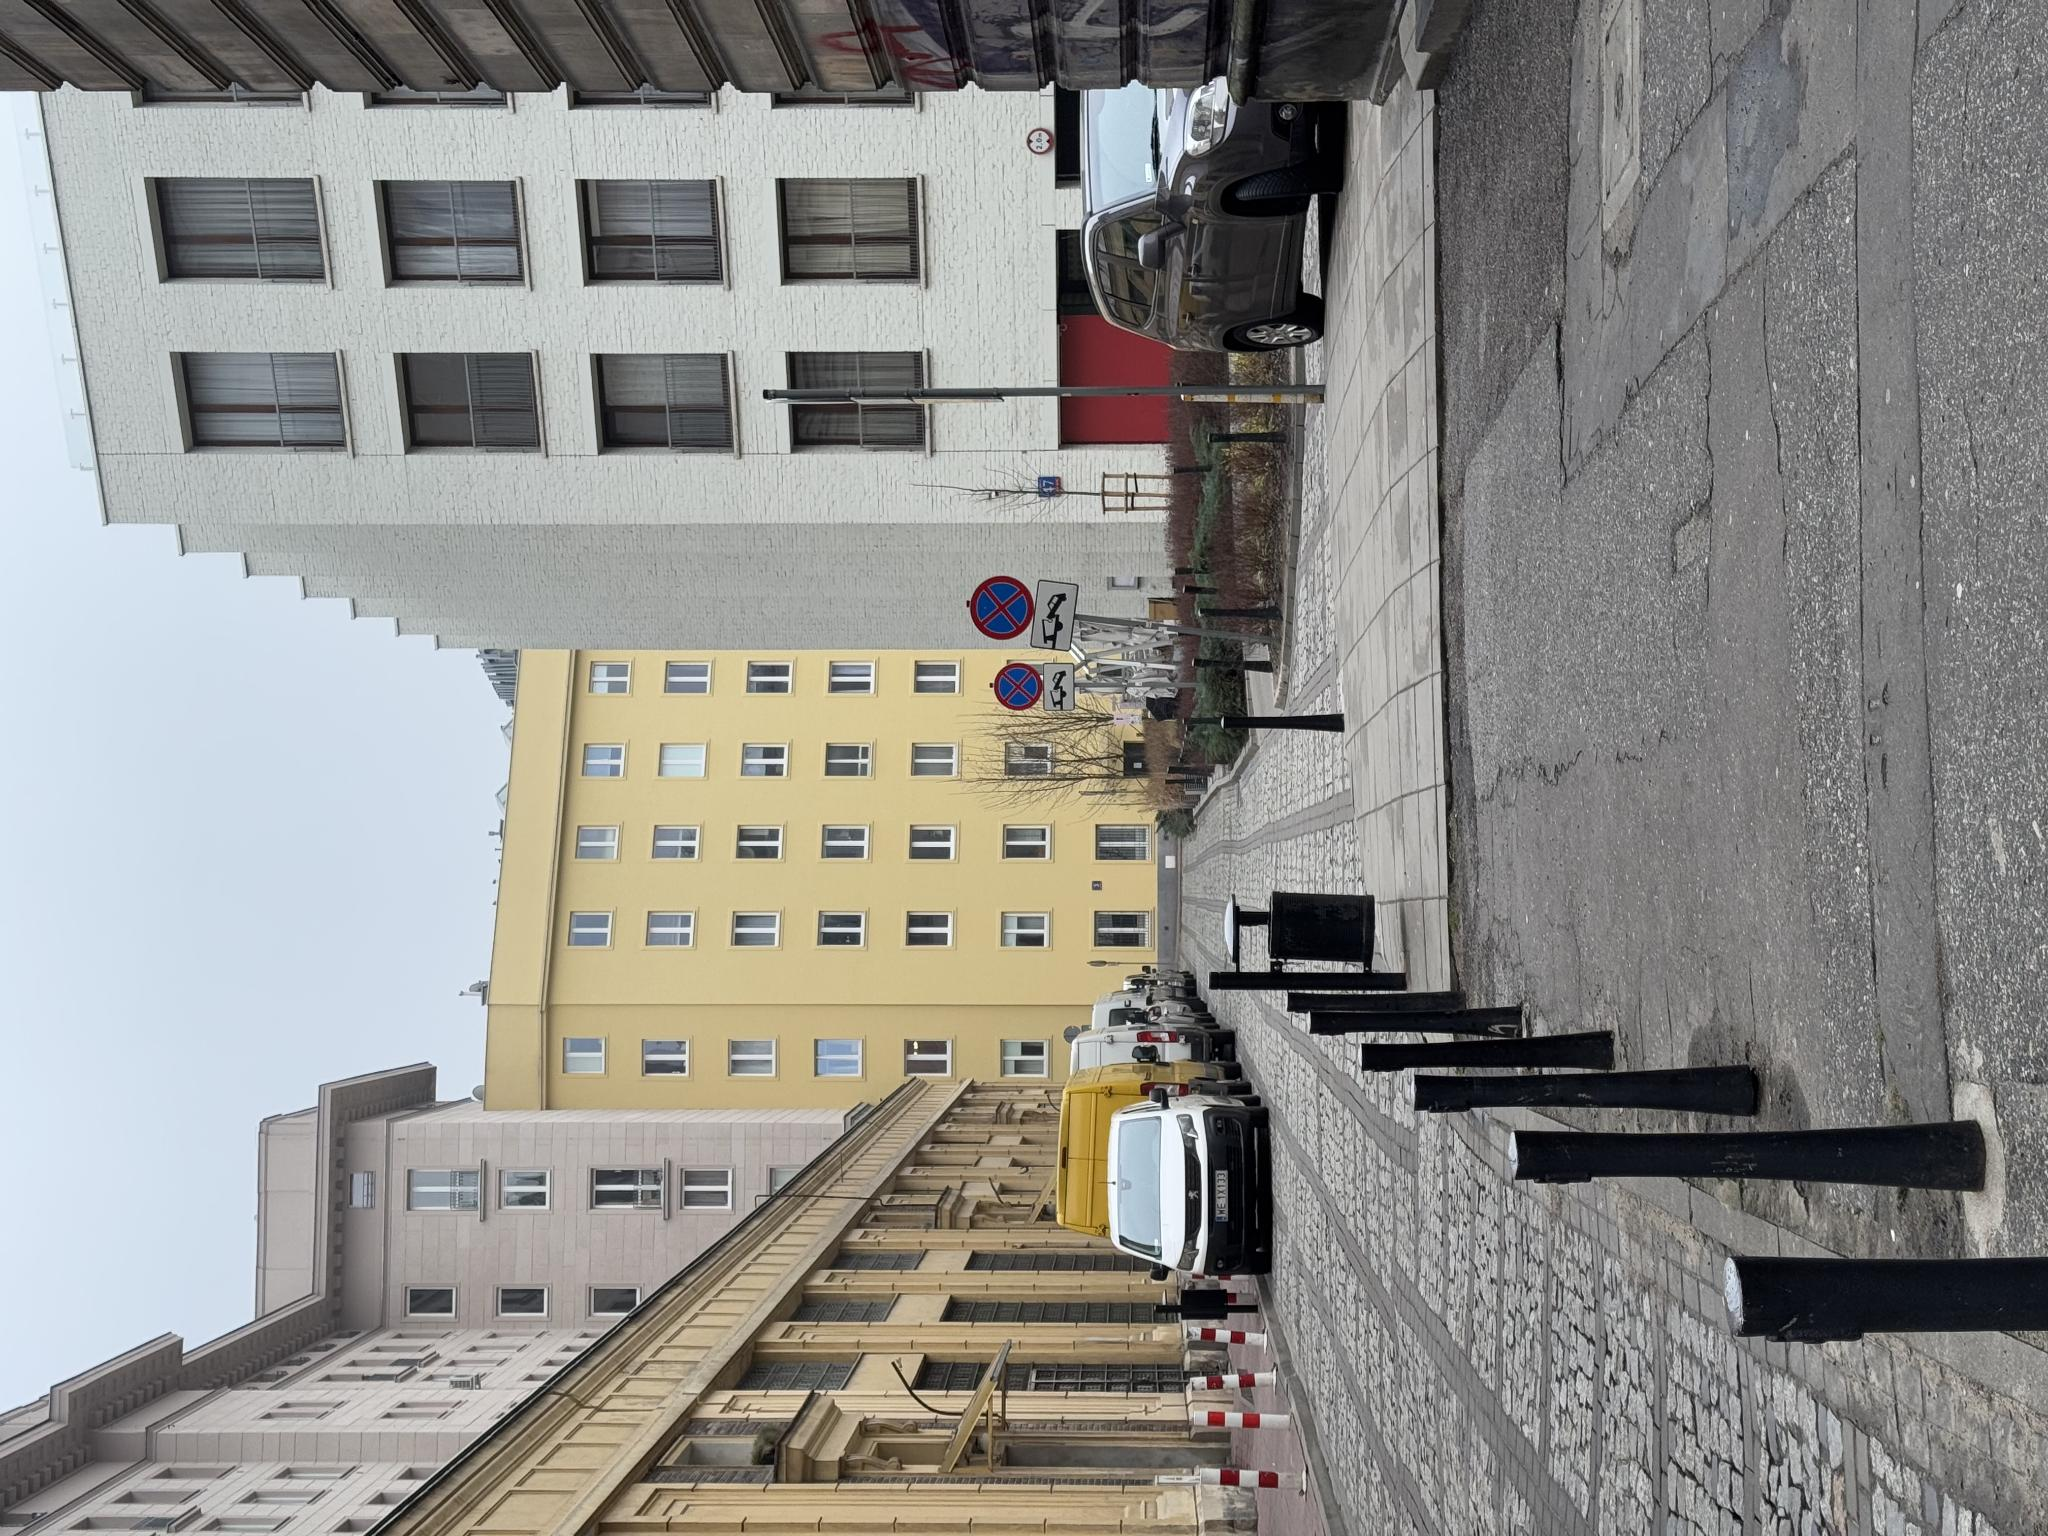other: (885, 1029, 958, 1081), (824, 1044, 874, 1076)
prohibitory: (895, 968, 961, 1036), (824, 992, 874, 1042)
